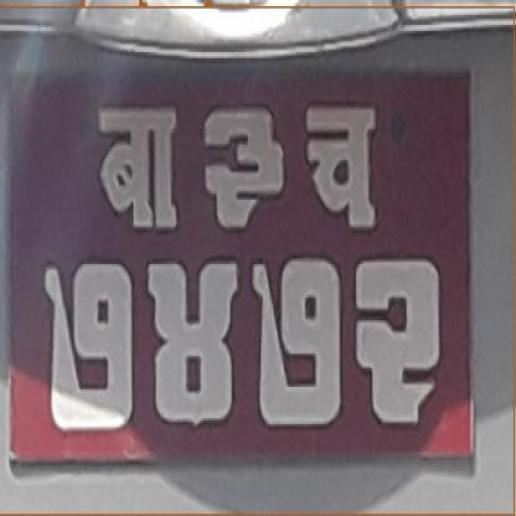2: (354, 258, 441, 429)
3: (202, 102, 287, 230)
4: (144, 256, 241, 427)
7: (41, 260, 135, 433)
9: (251, 258, 344, 430)
ba: (95, 102, 180, 231)
cha: (304, 102, 378, 231)
